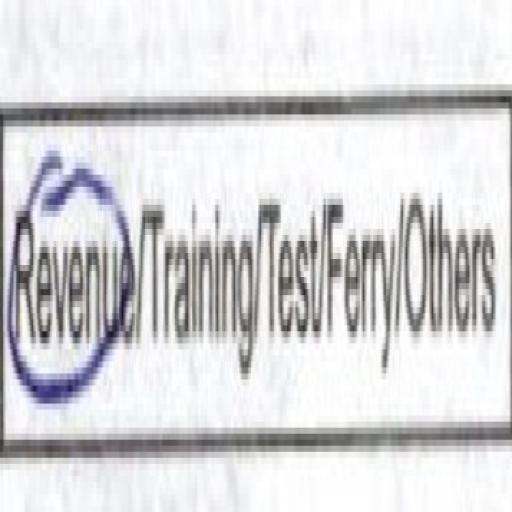check: (0, 48, 135, 512)
